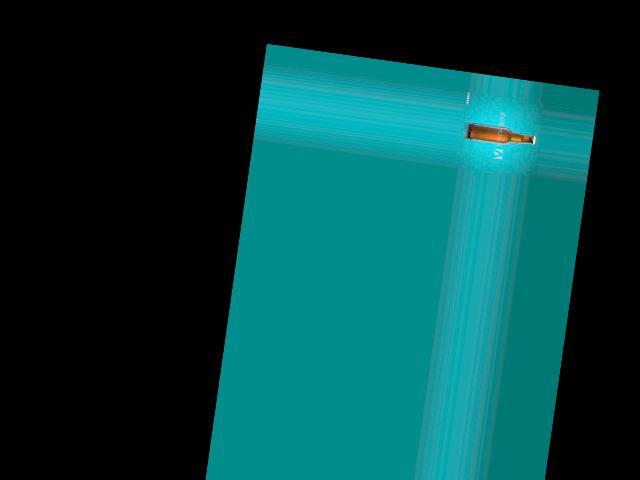beer: (467, 122, 536, 148)
